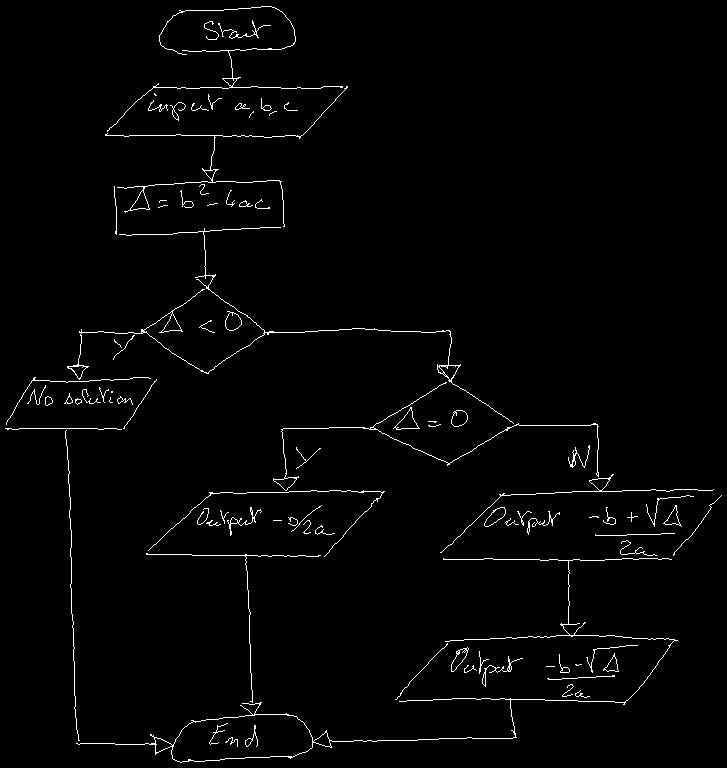arrow: (65, 430, 173, 754), (264, 328, 460, 380), (312, 698, 516, 747), (516, 423, 613, 491), (273, 427, 364, 490), (67, 329, 146, 379), (240, 554, 261, 715), (560, 560, 585, 636), (195, 228, 215, 288), (202, 135, 218, 181), (222, 50, 240, 87)
data: (440, 489, 721, 560), (395, 635, 677, 704), (146, 490, 384, 556), (105, 83, 347, 138), (5, 377, 156, 429)
decision: (363, 380, 518, 465), (141, 287, 268, 373)
process: (114, 180, 284, 235)
terminator: (171, 713, 312, 762), (159, 6, 295, 54)
text: (484, 495, 693, 555), (451, 645, 637, 697), (197, 505, 334, 535), (124, 184, 269, 212), (148, 93, 297, 120), (27, 385, 132, 405), (159, 311, 241, 332), (393, 407, 467, 429), (204, 20, 270, 39), (209, 723, 257, 746), (113, 335, 134, 359), (296, 447, 320, 468), (568, 445, 589, 467)
